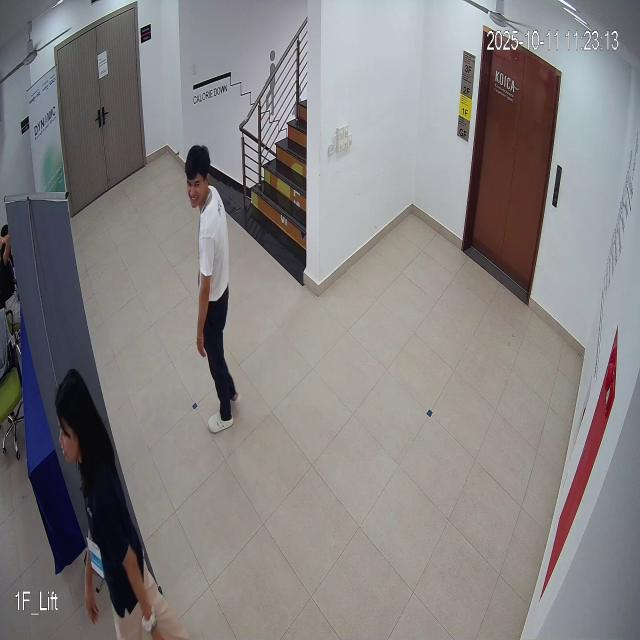face: (181, 137, 216, 216)
